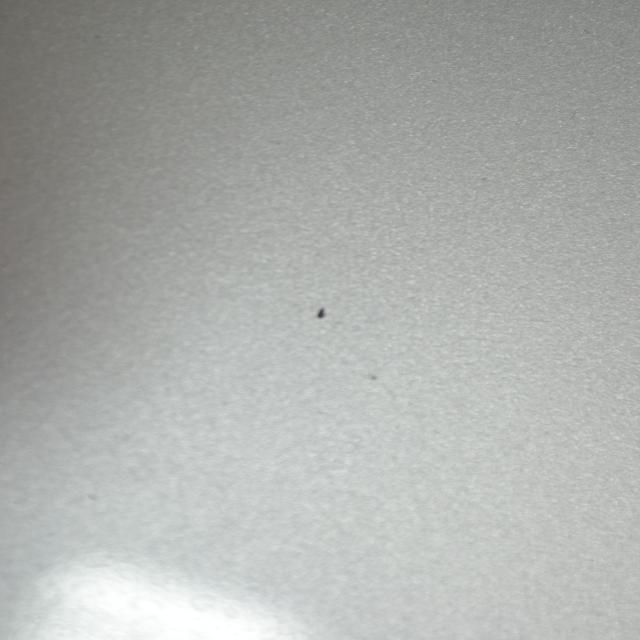dirt: (312, 304, 328, 322), (366, 368, 384, 383)
